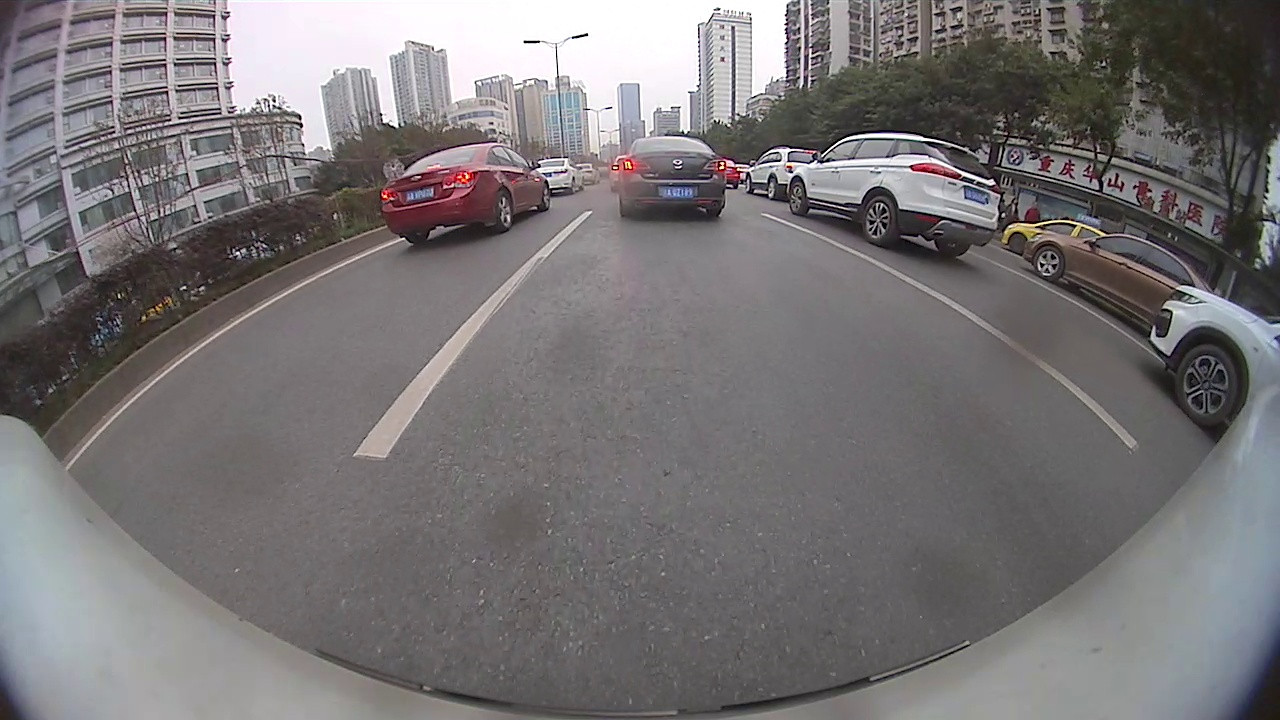car: (785, 129, 1001, 259), (1020, 226, 1214, 338), (1147, 285, 1277, 428), (382, 141, 553, 246), (618, 134, 726, 224), (741, 145, 827, 201), (1005, 216, 1105, 259), (532, 155, 583, 195), (710, 154, 742, 190), (606, 153, 632, 192), (572, 162, 598, 187)
front: (1174, 345, 1239, 425), (1032, 248, 1065, 281), (788, 181, 805, 217), (539, 177, 550, 210), (1010, 232, 1025, 254)
person: (1006, 198, 1020, 222), (1028, 198, 1038, 225)
rear: (863, 196, 897, 246), (497, 189, 514, 231), (766, 174, 778, 199)
